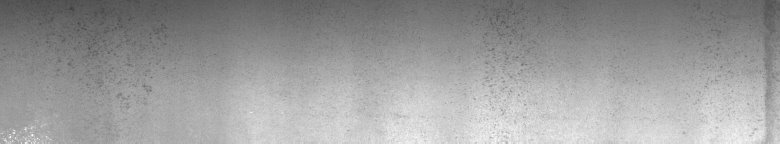ib: (9, 7, 174, 136)
